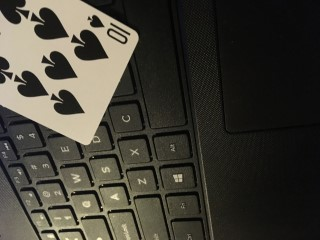TenOfSpades: (1, 1, 138, 145)
